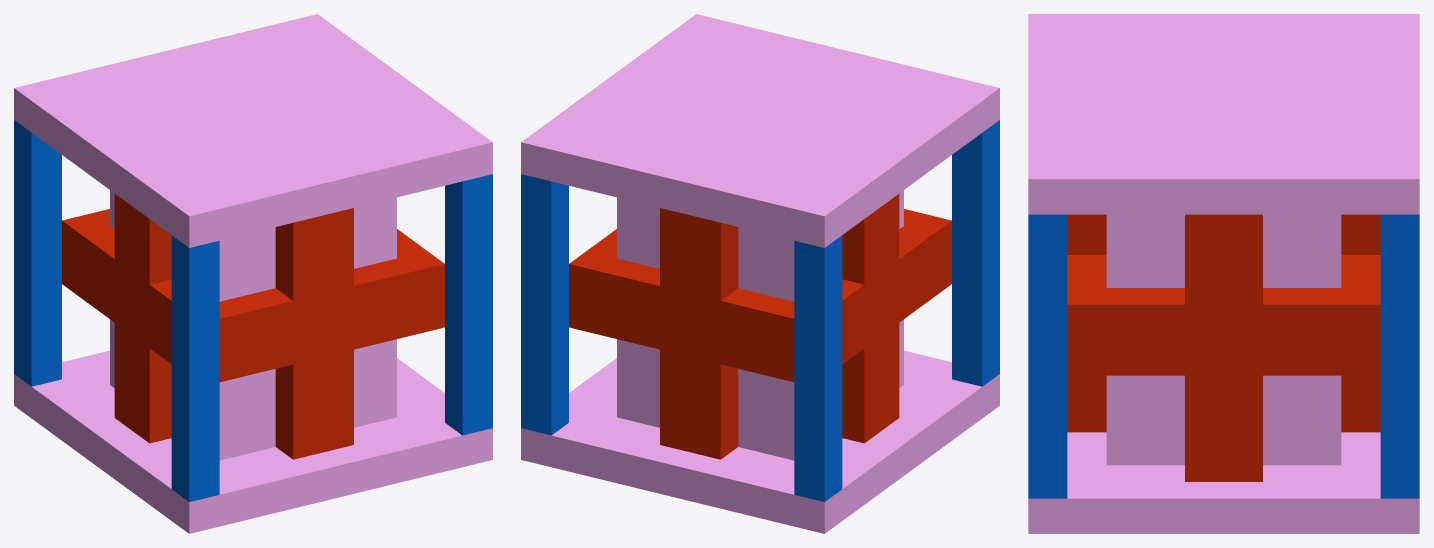
Rendered from Kii.fbx.
3 renders of one model, left to right at view 1: azimuth 30°, elevation 25°; view 2: azimuth 150°, elevation 25°; view 3: azimuth 270°, elevation 25°, orthographic. The views are drawn at different scales.
Visible parts, largest first — view 1: Kii; view 2: Kii; view 3: Kii.
Boxes of the visible parts, <box> form: Kii: <box>14,14,492,533</box>; Kii: <box>521,14,999,533</box>; Kii: <box>1028,14,1419,533</box>.
Size of the model in its own units: 10 by 10 by 10.
Materials: 1 (1 with a texture image).
